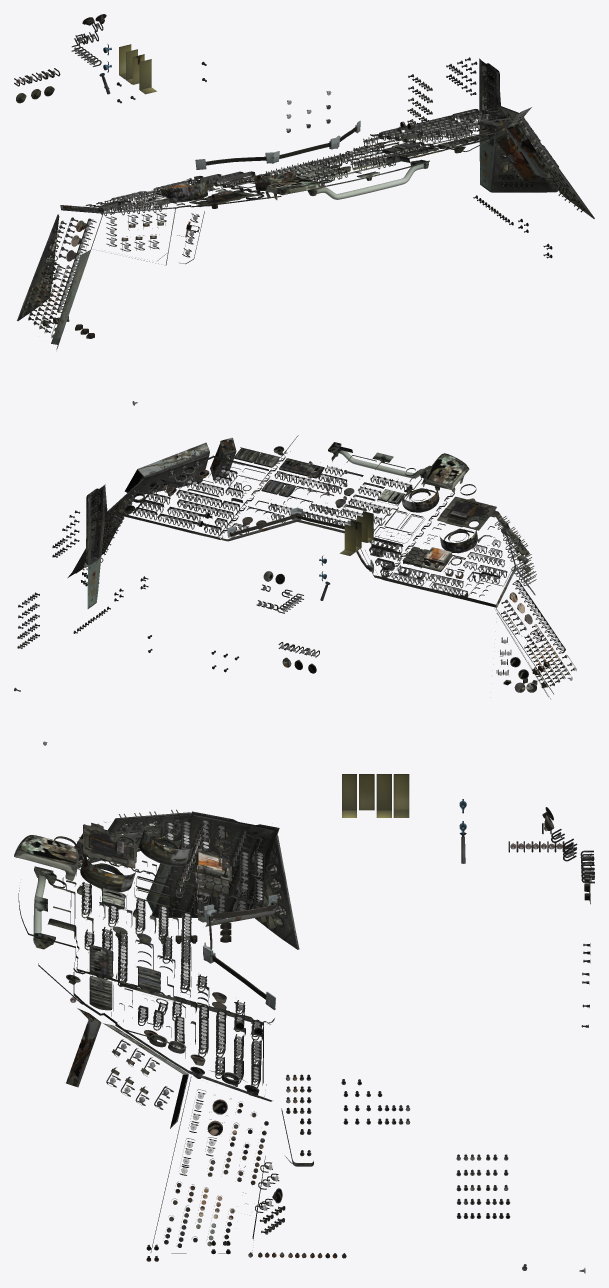
Rendered from x3d-cm-interior-panel-uvs-150k-4096-high.glb.
3 views of the same model, one above another, from view 1: azimuth 30°, elevation 25°; view 2: azimuth 150°, elevation 25°; view 3: azimuth 270°, elevation 25° (orthographic). The views are drawn at different scales.
Bounding box in the file's own units: 267 × 119 × 190.
1 material, 1 textured.
